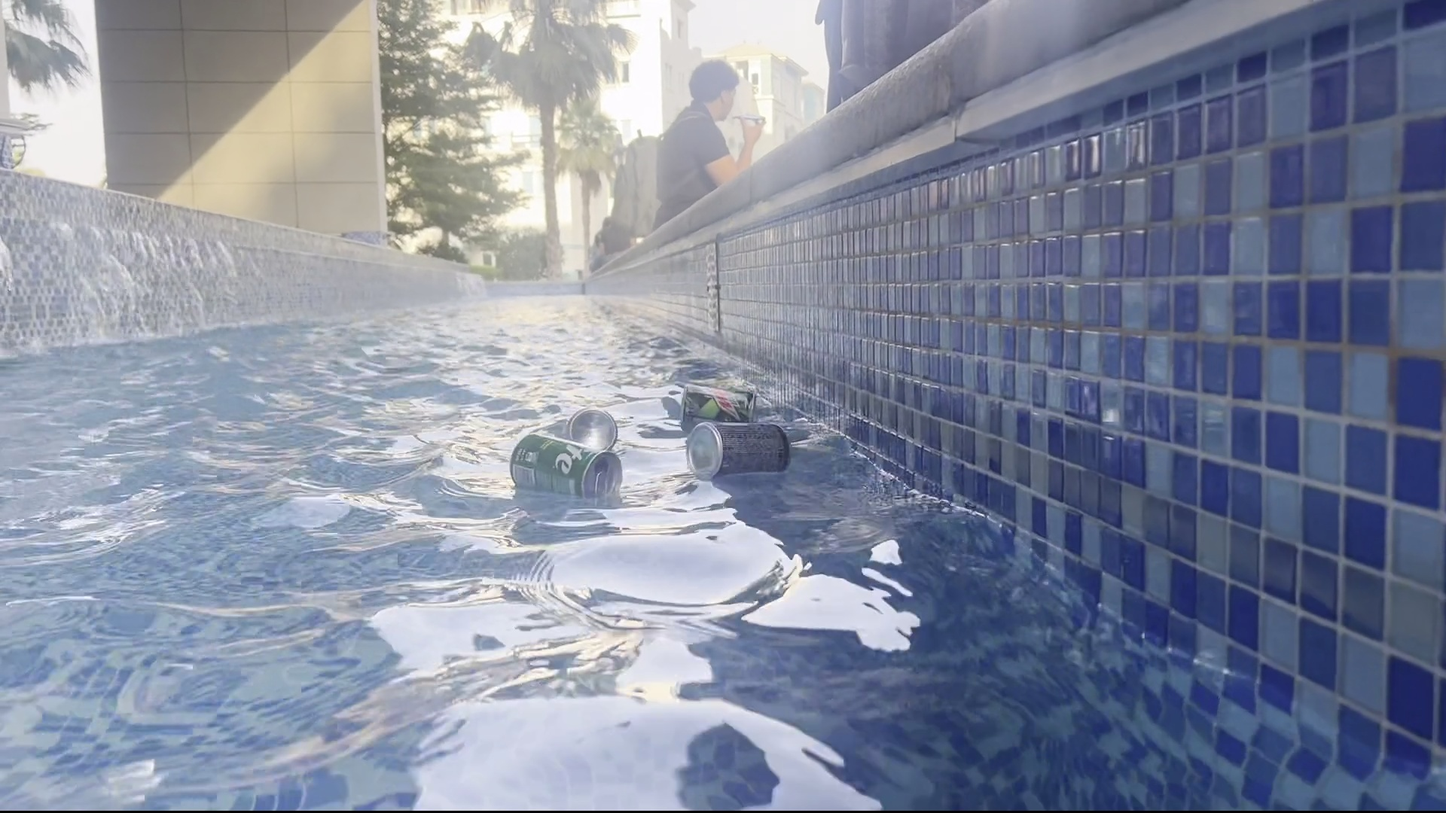debris: (503, 425, 627, 517), (679, 413, 799, 488), (676, 372, 762, 430), (563, 399, 622, 457)
